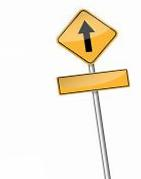forward: (57, 7, 117, 64)
